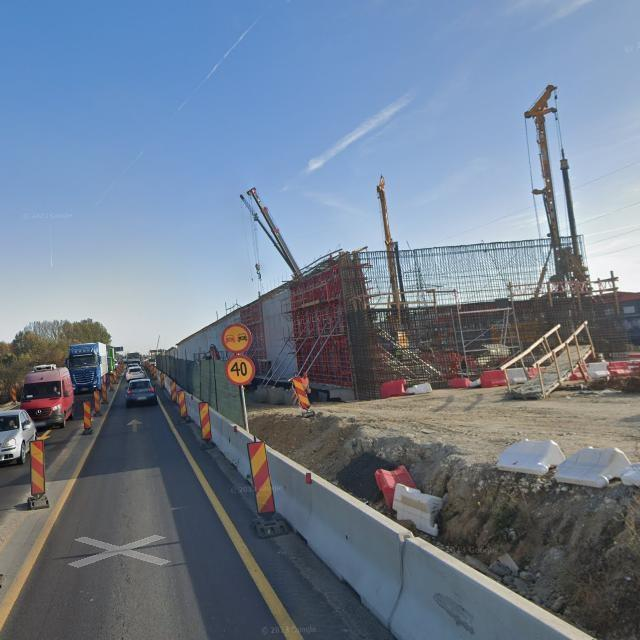forb_overtake: (221, 324, 252, 355)
forb_speed_over_40: (225, 355, 256, 387)
